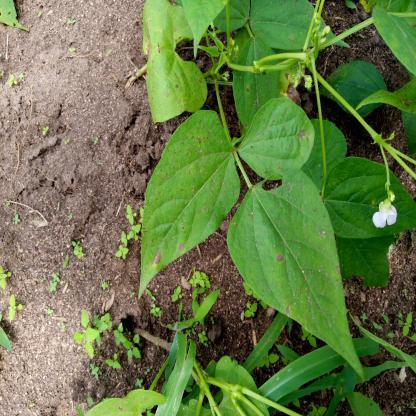Beans_Angular_LeafSpot: (228, 181, 344, 343), (128, 115, 233, 286), (244, 98, 320, 178), (145, 34, 204, 126)
